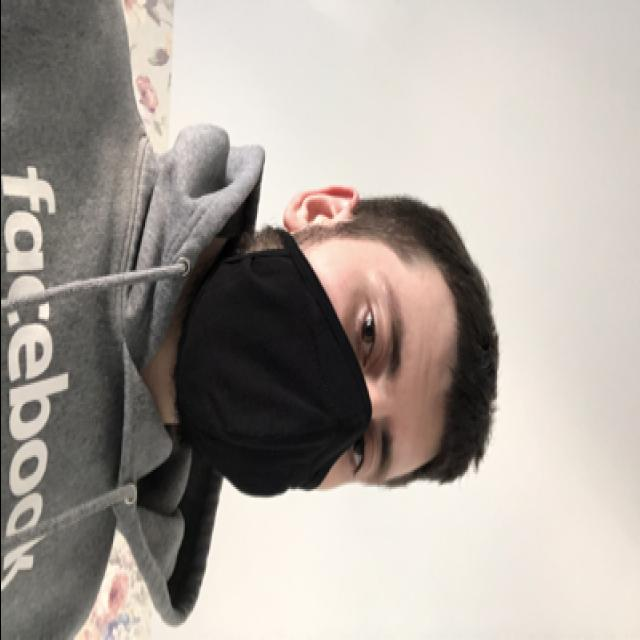mask: (176, 244, 416, 496)
